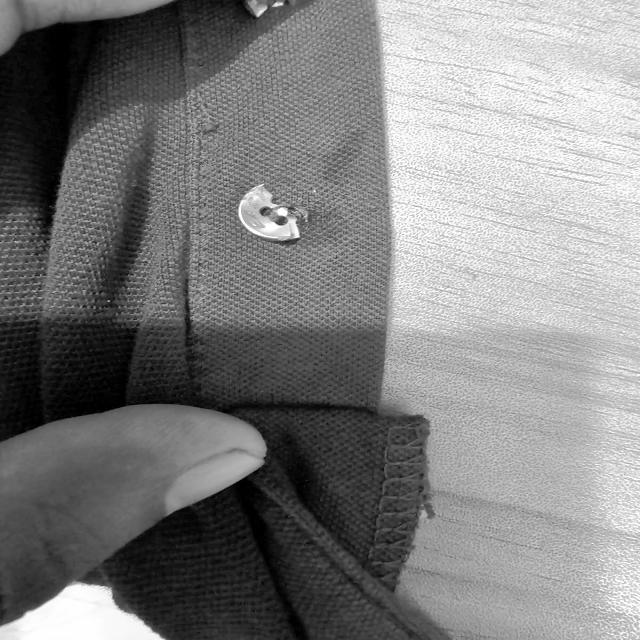Broken_button: (224, 170, 326, 252)
